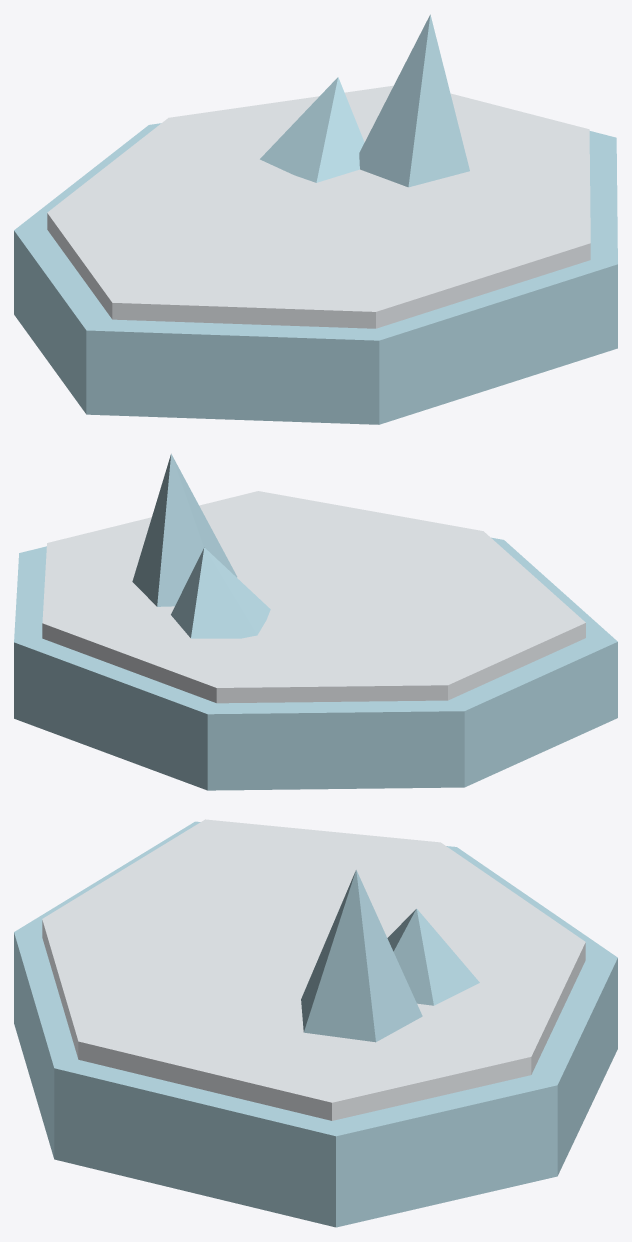
File: cover_ice_floe.glb
3 views of the same model, one above another, from view 1: azimuth 30°, elevation 25°; view 2: azimuth 150°, elevation 25°; view 3: azimuth 270°, elevation 25° (orthographic). The views are drawn at different scales.
Visible parts, largest first — view 1: nature_winter_floe; view 2: nature_winter_floe; view 3: nature_winter_floe.
Boxes of the visible parts, x1,y1,x2,y2 form: nature_winter_floe: [14, 14, 617, 424]; nature_winter_floe: [14, 454, 617, 790]; nature_winter_floe: [14, 819, 617, 1227].
Bounding box in the file's own units: 3.7 × 1.45 × 3.
